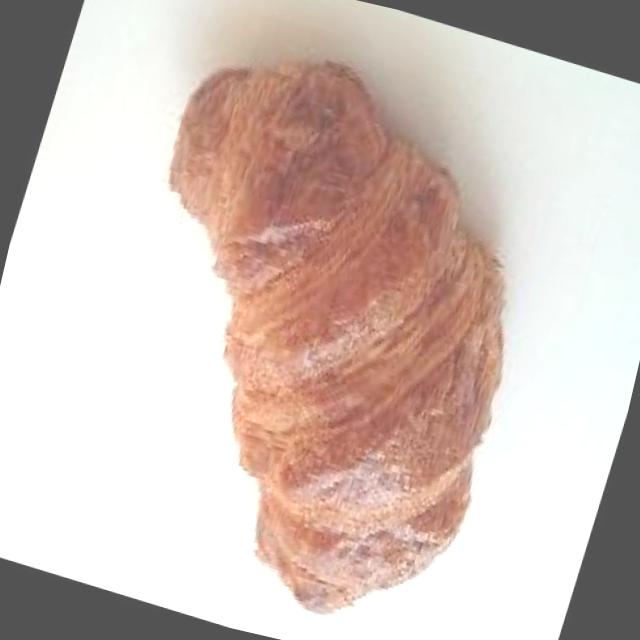Croissant: (38, 32, 594, 640)
